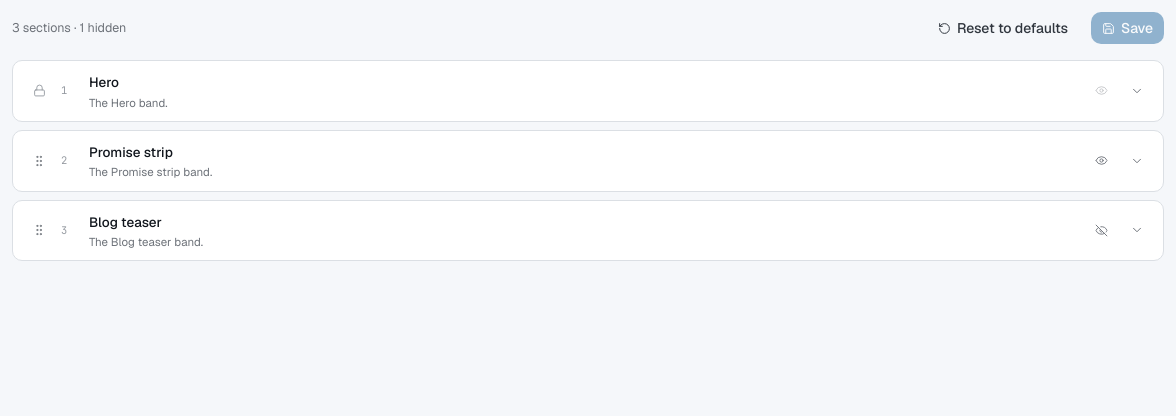
section editor › expanding a section reveals its fields and its data note
Step 1. Click the button "Blog teaser The Blog teaser band." → point(125, 222), box [89, 210, 1079, 250]
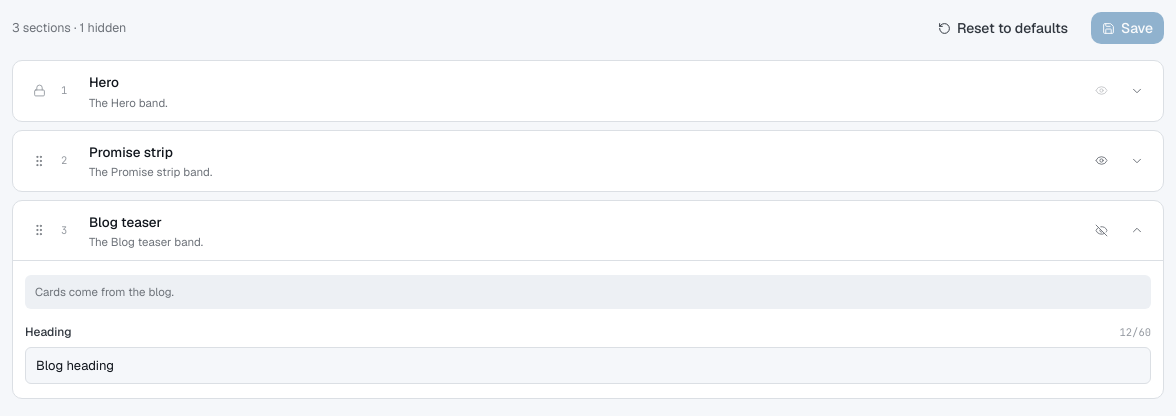
expect the text "Cards come from the blog." is shown: met, box [25, 275, 1151, 309]
expect the field holds "Blog heading": met, box [25, 346, 1151, 384]
